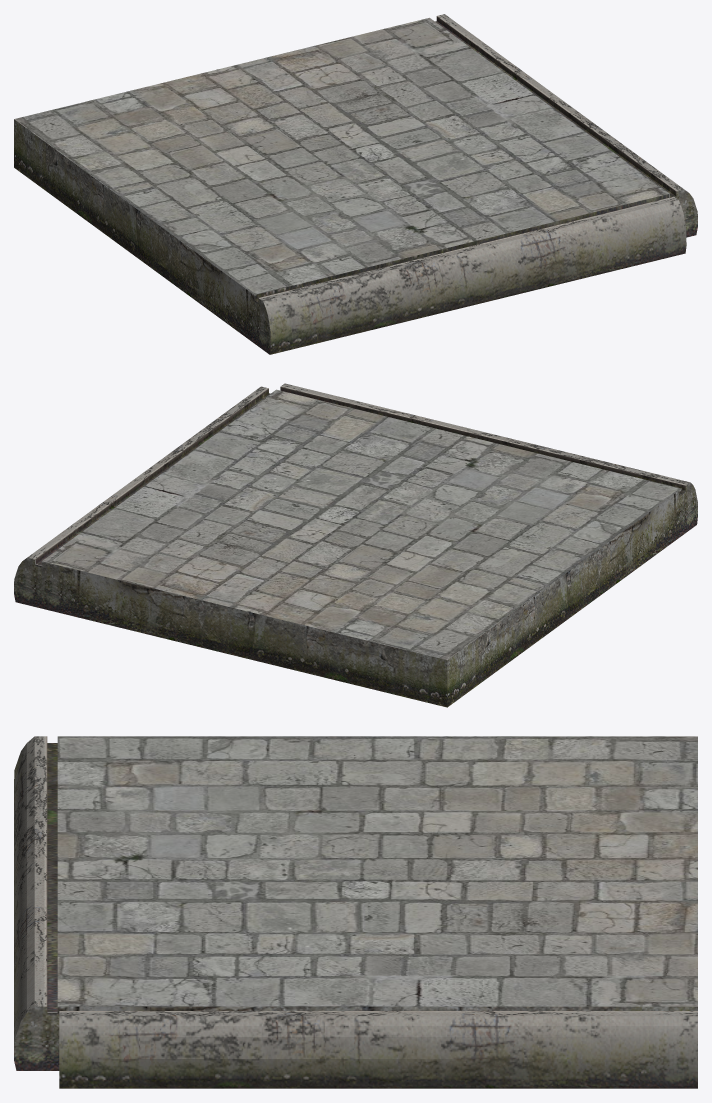
File: PavementPieces08.fbx
The picture shows the model from 3 angles, top to bottom: view 1: azimuth 30°, elevation 25°; view 2: azimuth 150°, elevation 25°; view 3: azimuth 270°, elevation 25°; orthographic projection. The views are drawn at different scales.
Visible parts, largest first — view 1: PavementPieces09; view 2: PavementPieces09; view 3: PavementPieces09.
Part boxes in pixels (x1,y1,x2,y2): PavementPieces09: [14, 14, 697, 354]; PavementPieces09: [14, 383, 697, 707]; PavementPieces09: [14, 736, 697, 1088].
Bounding box in the file's own units: 130 × 13.59 × 130.
